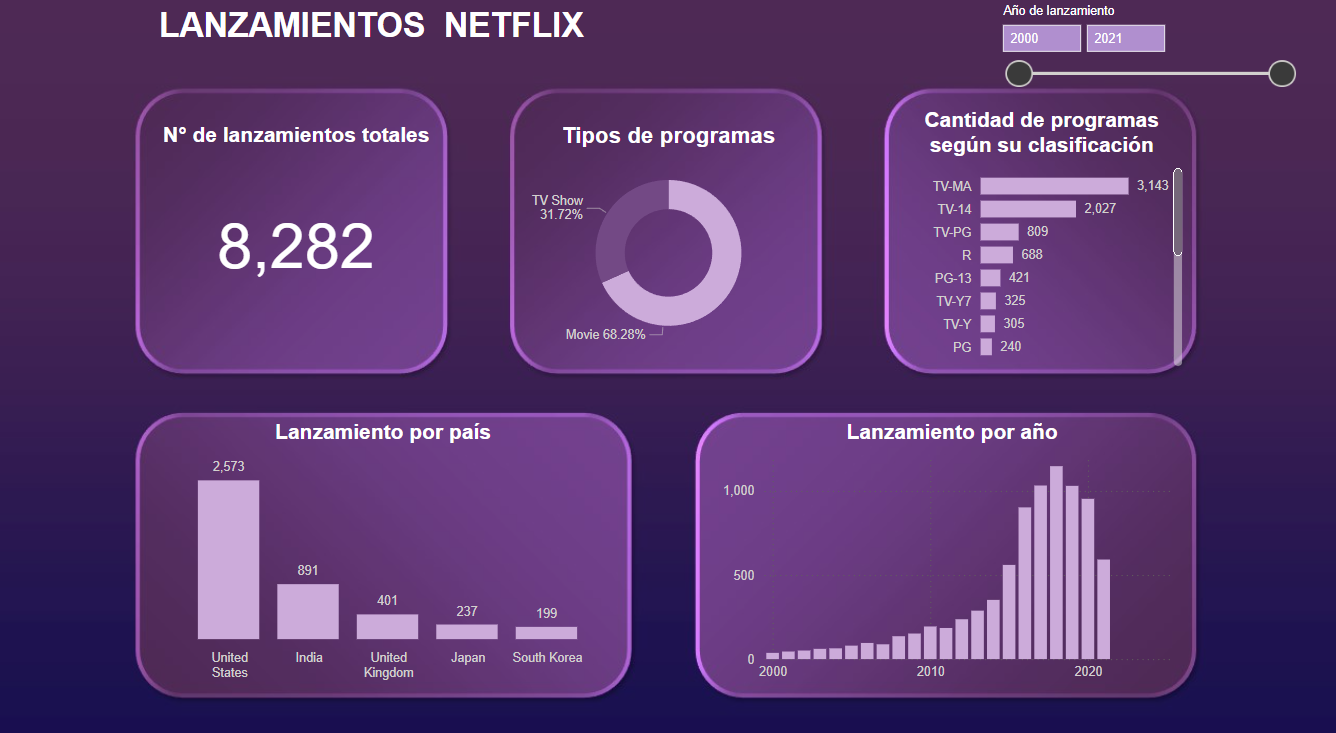

This screenshot's page, from the dashboard's own definition file:
{"tool":"powerbi","page":{"name":"Página 1","canvas":[1280,720],"ordinal":0},"visuals":[{"type":"card","title":"N° de lanzamientos totales","fields":{"Values":["Sum(netflix.Cantidad)"]},"box":[145.4,124,279.4,202.5],"z":0},{"type":"donutChart","title":"Tipos de programas","fields":{"Y":["Sum(netflix.Cantidad)"],"Category":["netflix.Tipo"]},"box":[500.4,124,279.4,223.8],"z":1},{"type":"clusteredBarChart","title":"Cantidad  de programas según su clasificación","fields":{"Y":["Sum(netflix.Cantidad)"],"Category":["netflix.Clasificación"]},"box":[855.4,109.8,278,250.9],"z":2},{"type":"clusteredColumnChart","title":"Lanzamiento por país","fields":{"Y":["Sum(netflix.Cantidad)"],"Category":["netflix.Pais"]},"box":[145.4,406.3,444.8,256.6],"z":3},{"type":"clusteredColumnChart","title":"Lanzamiento por año","fields":{"Y":["Sum(netflix.Cantidad)"],"Category":["netflix.Año de lanzamiento"]},"box":[685.8,406.3,447.7,256.6],"z":4},{"type":"textbox","box":[122.6,8.6,467.6,79.8],"z":5},{"type":"slicer","fields":{"Values":["netflix.Año de lanzamiento"]},"box":[942.4,8.6,300.8,88.4],"z":6}]}

Visuals, with their boxes in screenshot pixels (x1, y1, x2, y2), scaled from the page's 1280x720 canvas onto the 1336x733 screenshot:
"N° de lanzamientos totales" card: [152,126,443,332]
"Tipos de programas" donutChart: [522,126,814,354]
"Cantidad  de programas según su clasificación" clusteredBarChart: [893,112,1183,367]
"Lanzamiento por país" clusteredColumnChart: [152,414,616,675]
"Lanzamiento por año" clusteredColumnChart: [716,414,1183,675]
textbox: [128,9,616,90]
slicer - netflix.Año de lanzamiento: [984,9,1298,99]
